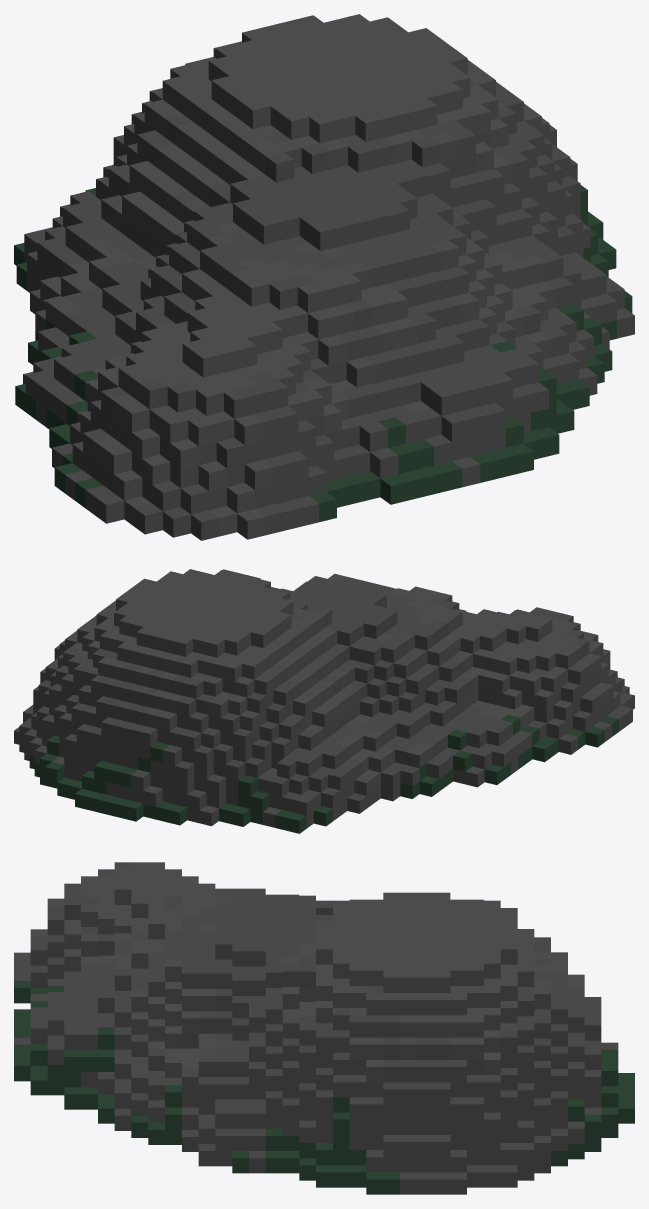
The model's file is stone7.obj.
3 renders of one model, top to bottom at view 1: azimuth 30°, elevation 25°; view 2: azimuth 150°, elevation 25°; view 3: azimuth 270°, elevation 25°, orthographic. The views are drawn at different scales.
Size of the model in its own units: 3.7 by 1.1 by 3.7.
1 material, 1 textured.
